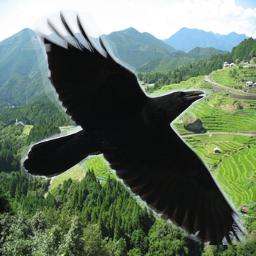Crow: (21, 8, 251, 245)
